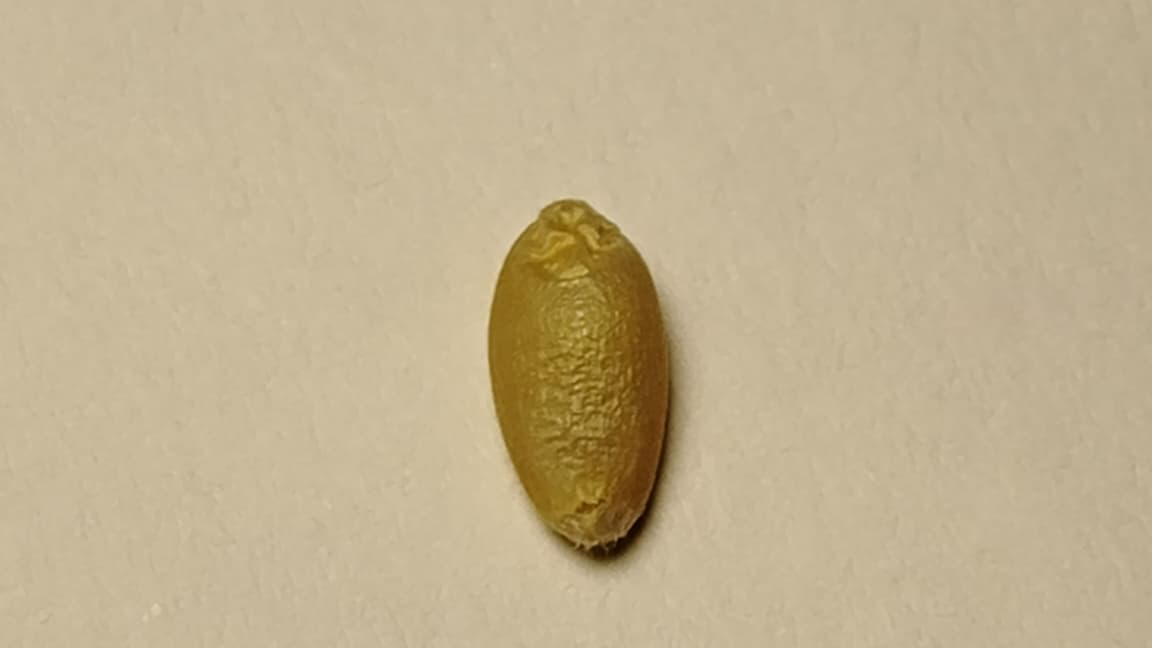healthy: (490, 198, 669, 546)
